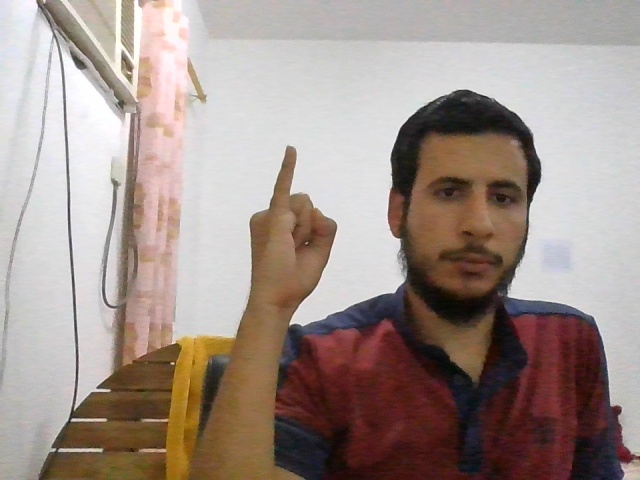One: (250, 145, 338, 304)
